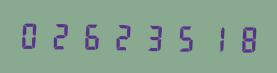eight: (227, 21, 256, 55)
five: (167, 20, 196, 54)
one: (197, 21, 226, 54)
six: (77, 18, 106, 52)
three: (137, 19, 166, 53)
two: (47, 18, 76, 51), (107, 19, 136, 52)
zero: (17, 17, 46, 51)
